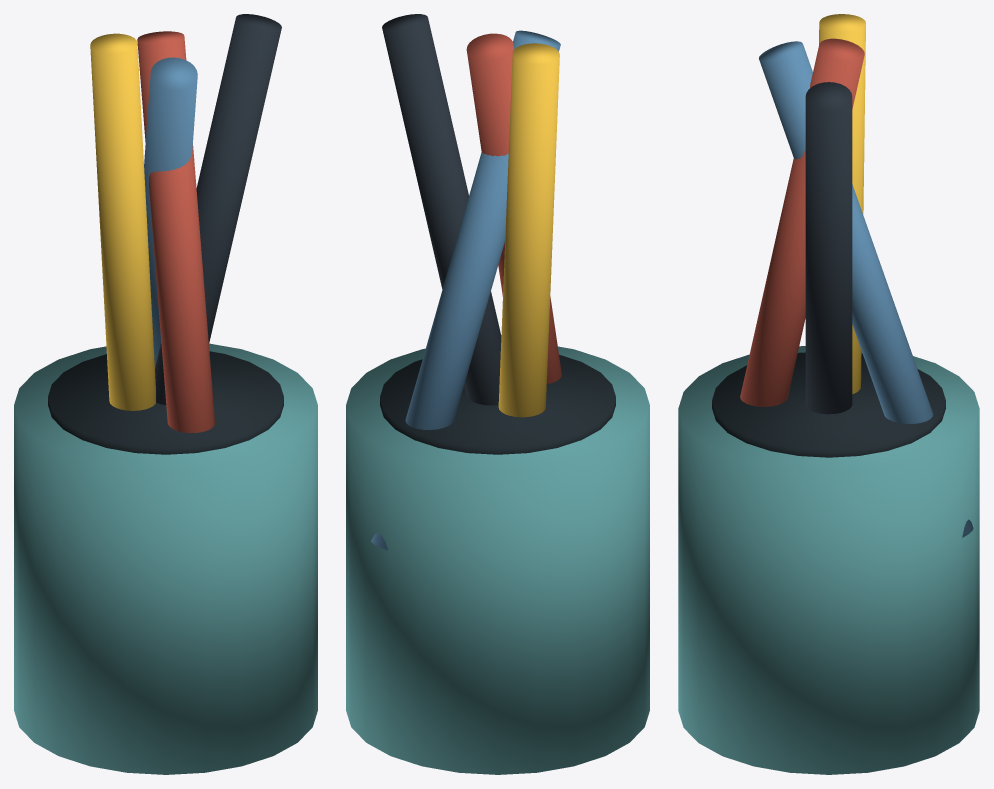
Rendered from pen_cup.glb.
3 renders of one model, left to right at view 1: azimuth 30°, elevation 25°; view 2: azimuth 150°, elevation 25°; view 3: azimuth 270°, elevation 25°, orthographic.
Parts seen in each view (by area): view 1: cup, pen.002, pen.001, inside, pen, pen.003; view 2: cup, pen.002, pen, pen.003, inside, pen.001; view 3: cup, pen, pen.003, inside, pen.001, pen.002.
Part boxes in pixels (x1,y1,x2,y2): cup: (14, 343, 317, 774); pen.002: (90, 33, 155, 410); pen.001: (137, 31, 214, 432); inside: (48, 351, 283, 454); pen: (155, 14, 281, 404); pen.003: (144, 57, 197, 367); cup: (346, 346, 649, 774); pen.002: (498, 43, 559, 417); pen: (382, 14, 501, 405); pen.003: (371, 30, 560, 550); inside: (380, 354, 615, 454); pen.001: (466, 33, 561, 383); cup: (678, 346, 979, 774); pen: (805, 82, 852, 414); pen.003: (759, 41, 973, 537); inside: (712, 352, 945, 457); pen.001: (740, 38, 864, 406); pen.002: (819, 14, 865, 394).
Bounding box in the file's own units: 0.09 × 0.2202 × 0.09.
